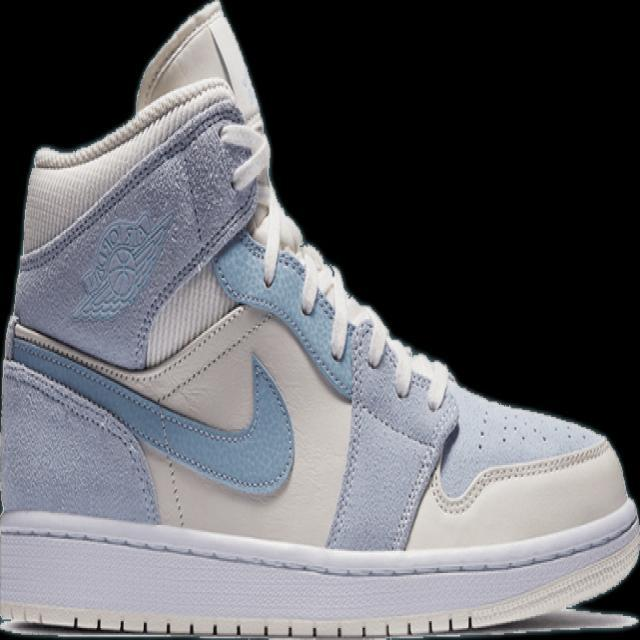J1_InsoleChar: (0, 0, 639, 639)
J1_ShoeLogo: (69, 213, 170, 322)
J1_StitchPattern: (135, 1, 451, 410), (0, 504, 639, 636), (5, 303, 296, 500), (324, 323, 459, 551), (286, 240, 452, 410), (0, 605, 639, 639), (217, 113, 305, 283), (428, 435, 612, 516), (153, 304, 270, 406), (292, 243, 354, 357), (162, 454, 187, 528)
